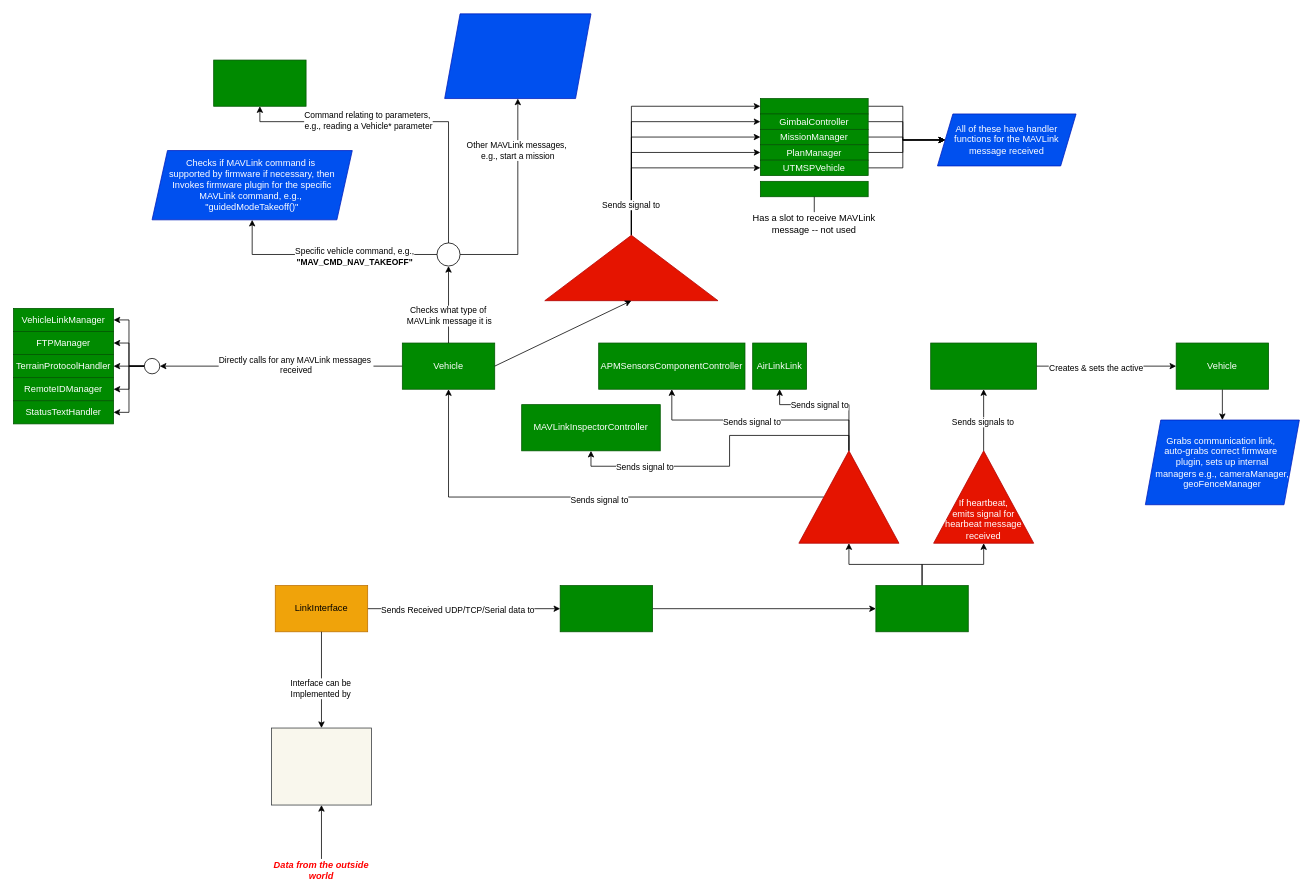
Some shapes in this 1313 by 895 pixel diagram are drawn without their labels. The box of each missing label's shape, as (x1, y1, x2, y2) in pixels:
BluetoothLink, LogReplayLink, SerialLink, TCPLink, UDPLink, MockLink: (271, 727, 372, 805)
Calls some internal handler functions, e.g., "startMission()": (444, 13, 591, 99)
Emits signal for mavlinkMessageReceived: (544, 234, 718, 301)
Emits signal for message received: (798, 450, 899, 543)
ImageProtocolManager: (760, 181, 868, 197)
LinkManager: (559, 585, 653, 632)
MAVLinkProtocol: (875, 585, 968, 632)
MultiVehicleManager: (930, 342, 1037, 389)
ParameterManager: (213, 59, 306, 106)
QGCCameraManager: (760, 98, 868, 114)
